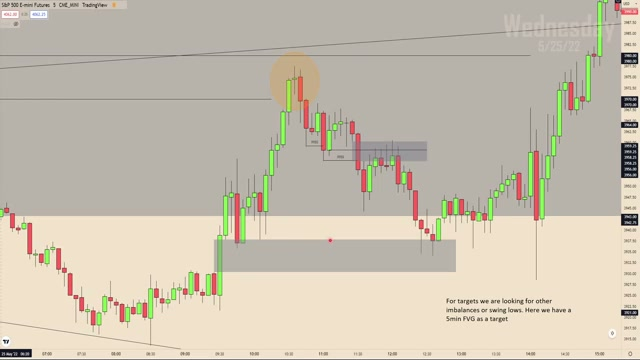bullish_reaction_zone: (246, 209, 429, 244)
